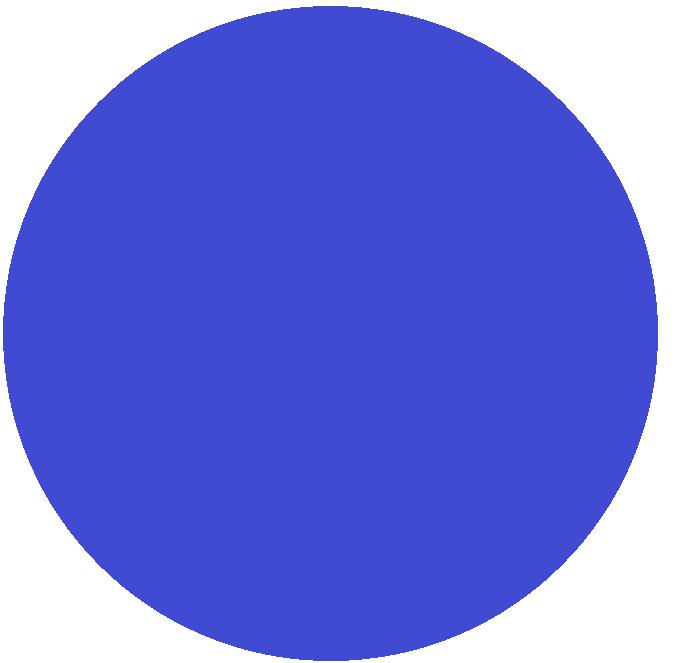blue_circle: (2, 0, 675, 663)
